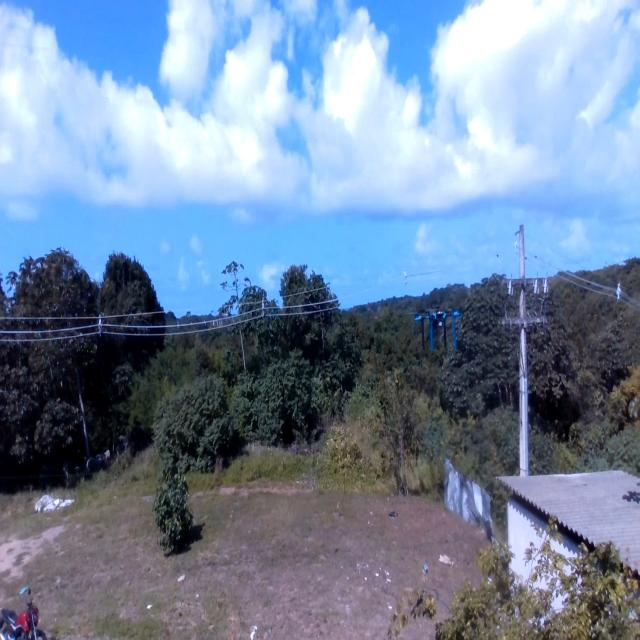-uav-: (409, 295, 469, 370)
